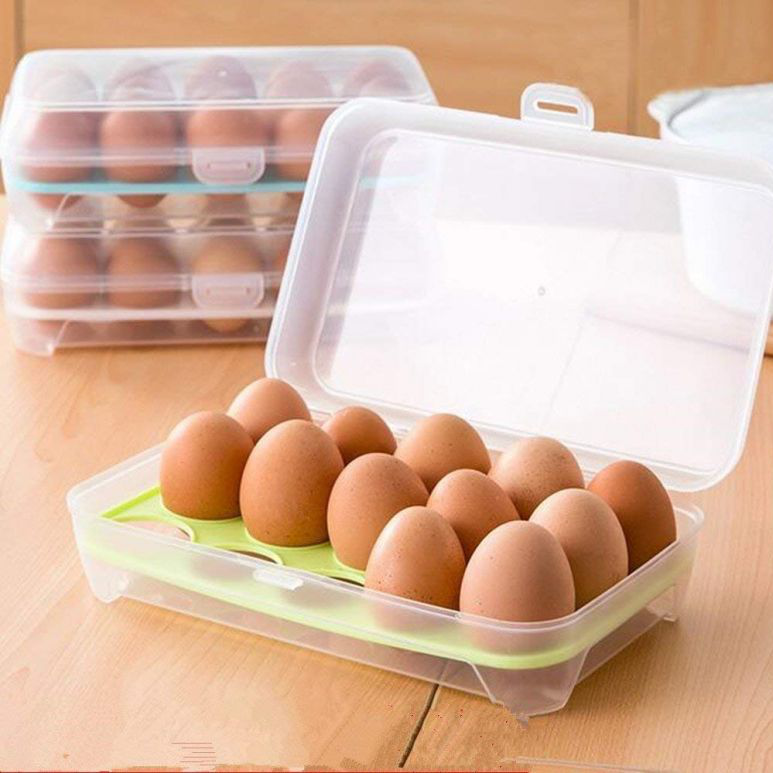egg: (159, 375, 678, 631), (25, 67, 415, 182), (21, 214, 299, 315)
